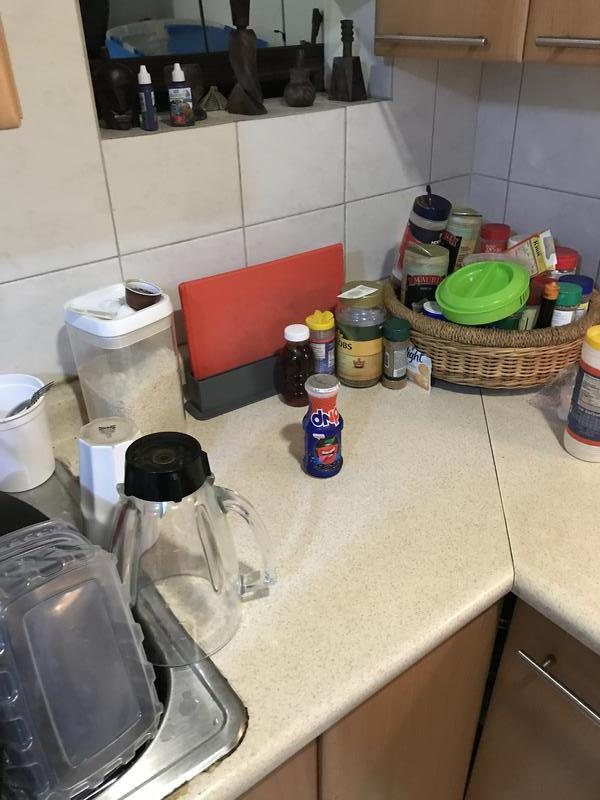danup: (304, 373, 346, 480)
